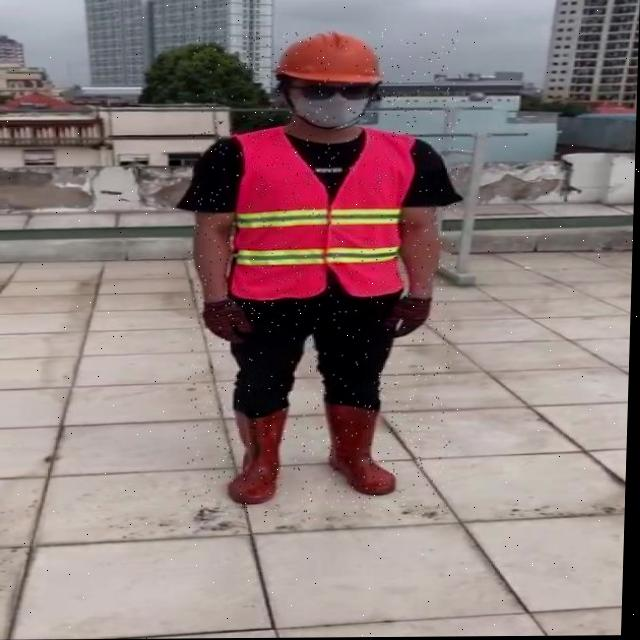Gloves: (204, 298, 258, 344), (385, 294, 434, 338)
Helmet: (274, 30, 386, 131)
Safety-Boot: (326, 398, 401, 496), (231, 403, 293, 504)
Safety-Vest: (228, 125, 420, 301)
